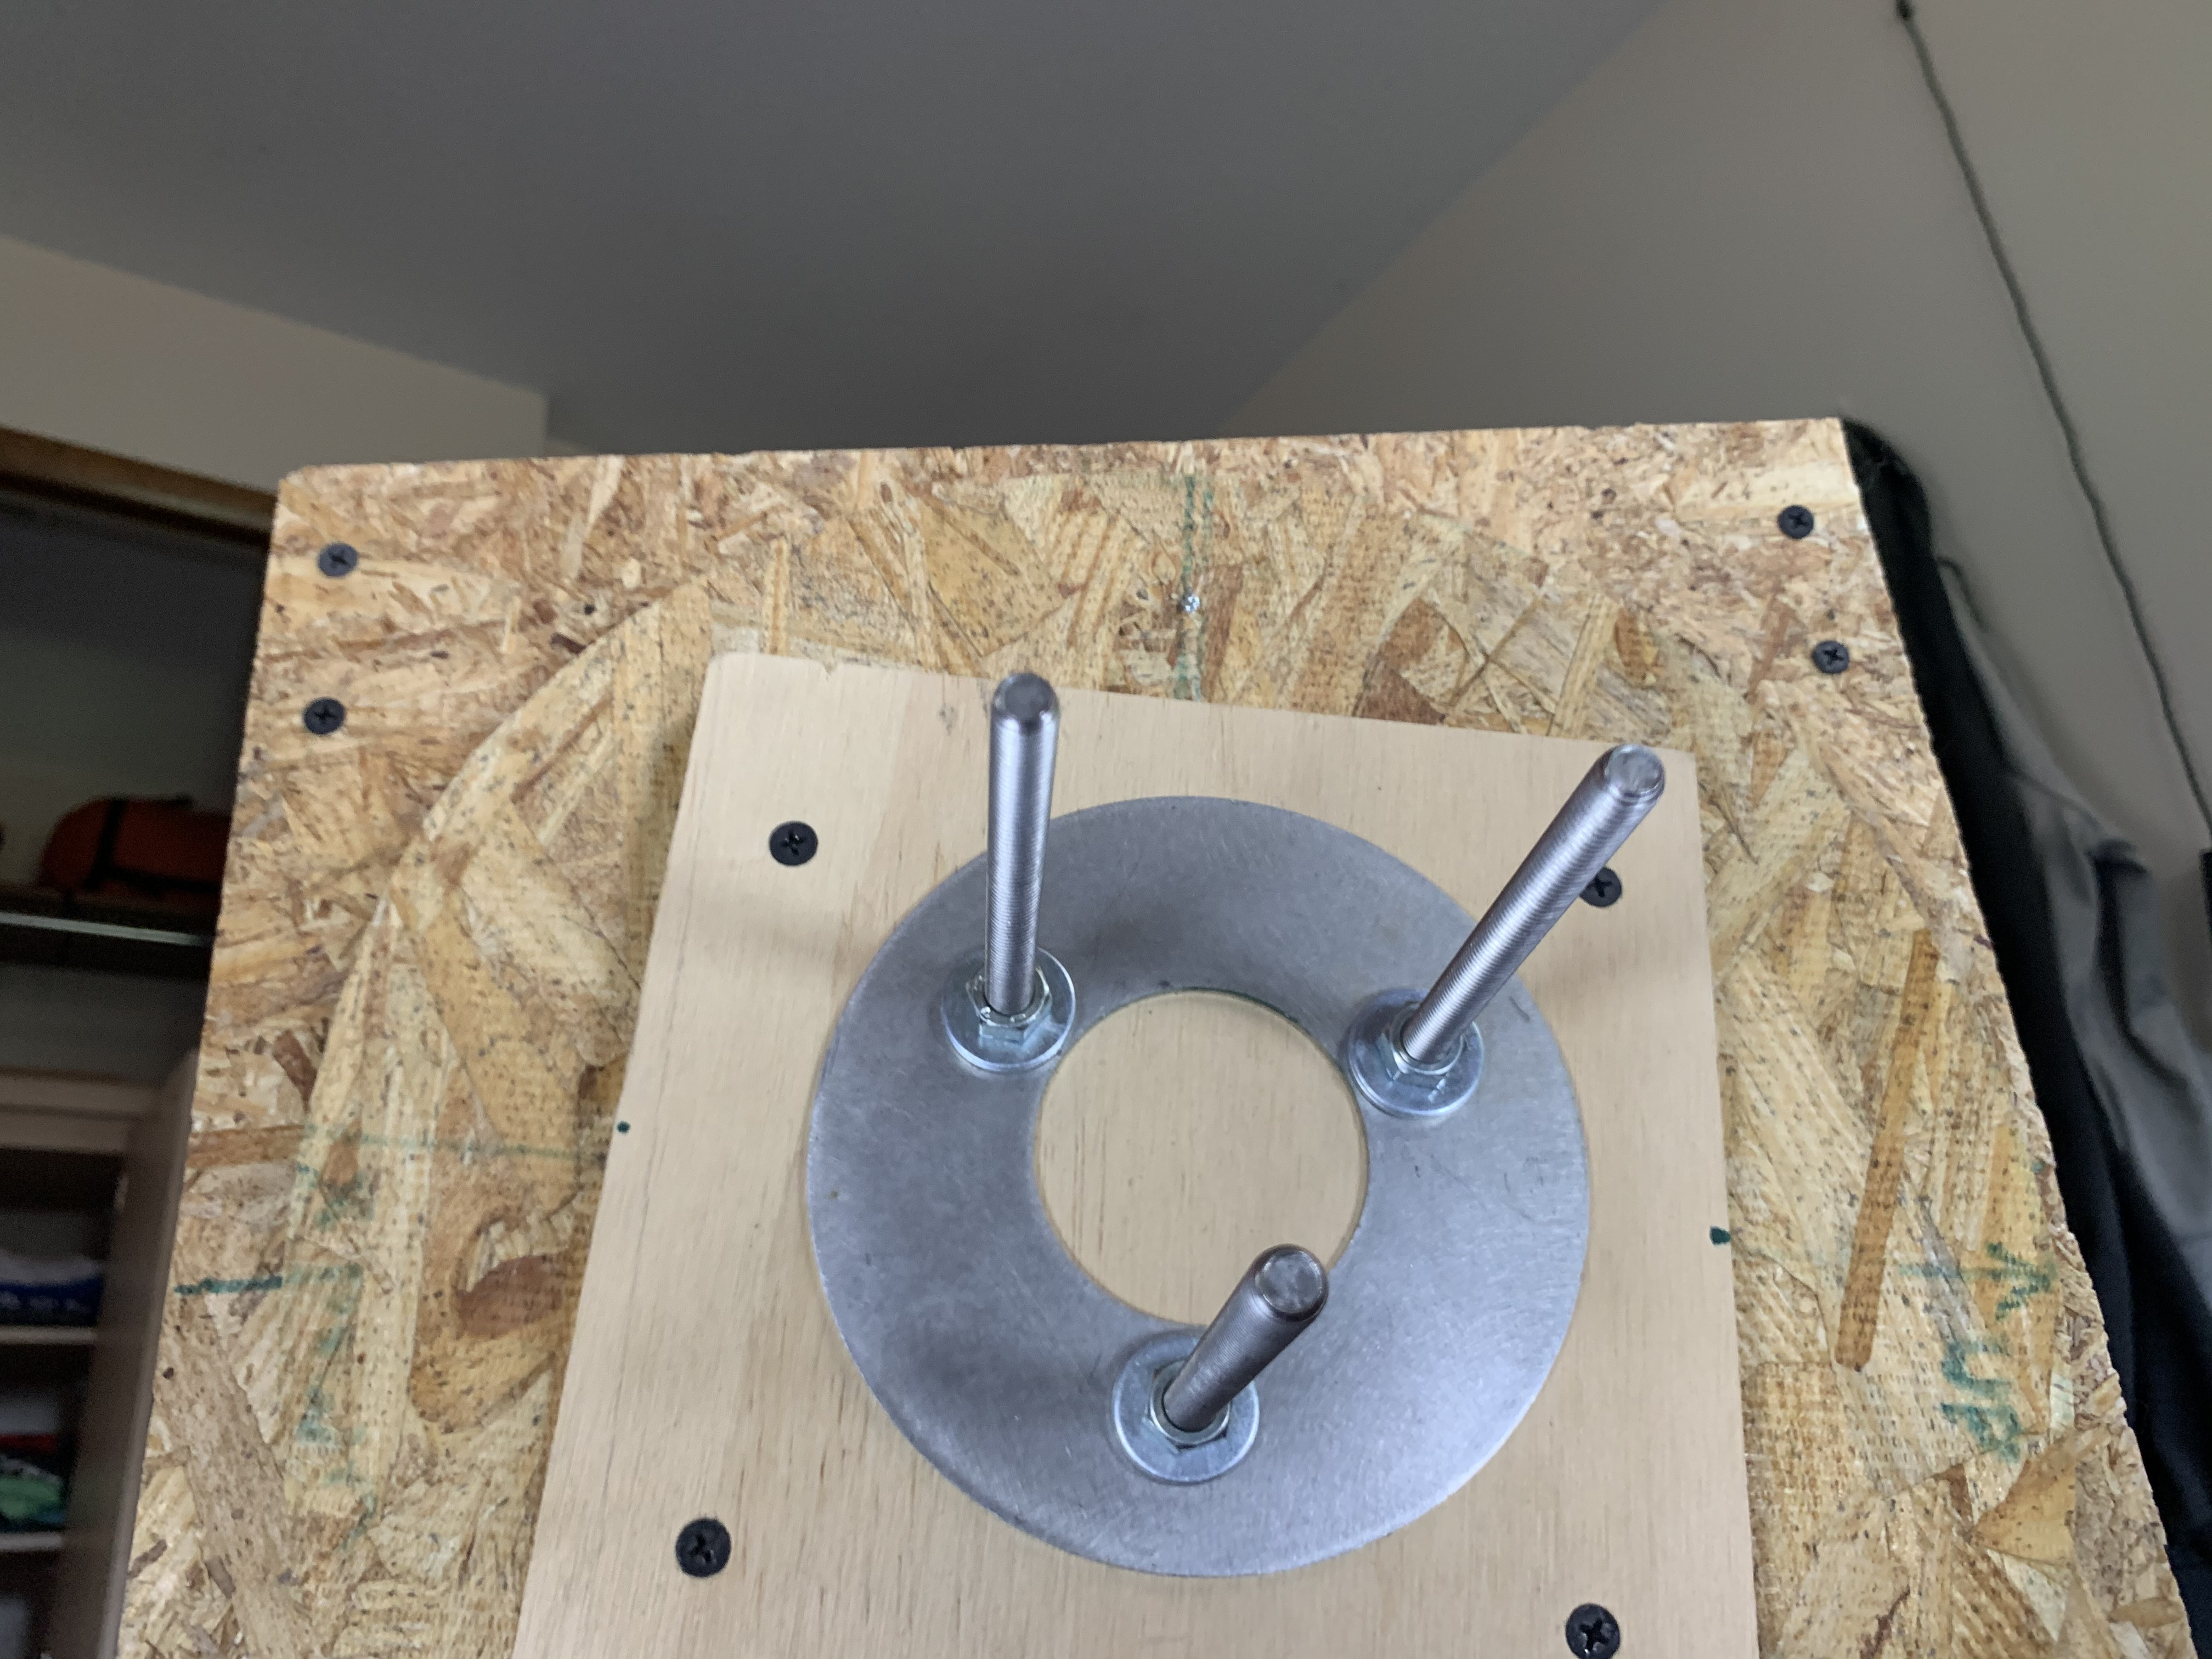bolt: (1111, 1331, 1264, 1486), (1338, 986, 1489, 1121), (935, 939, 1076, 1079)
